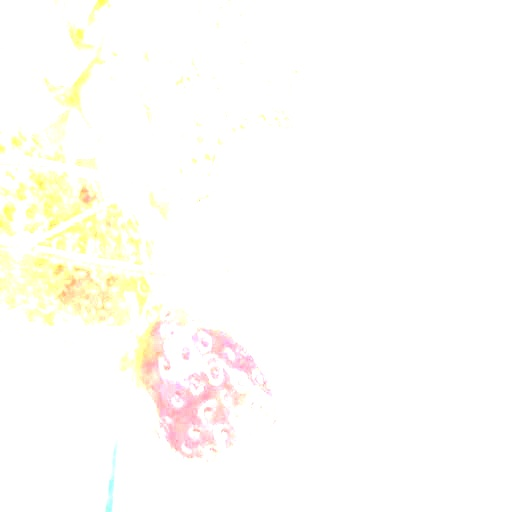Gray Mold: (164, 128, 370, 274), (210, 212, 360, 343)
